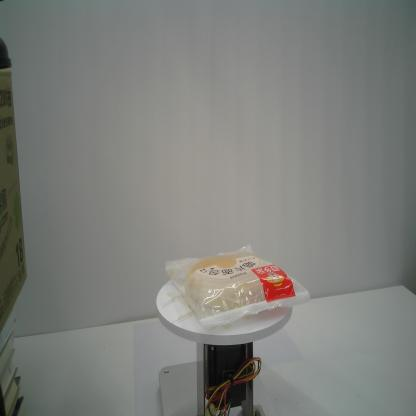Dessert: (162, 243, 312, 329)
